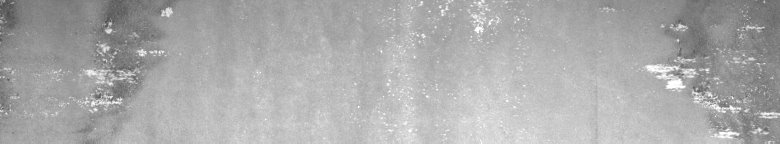hc: (4, 4, 174, 132)
